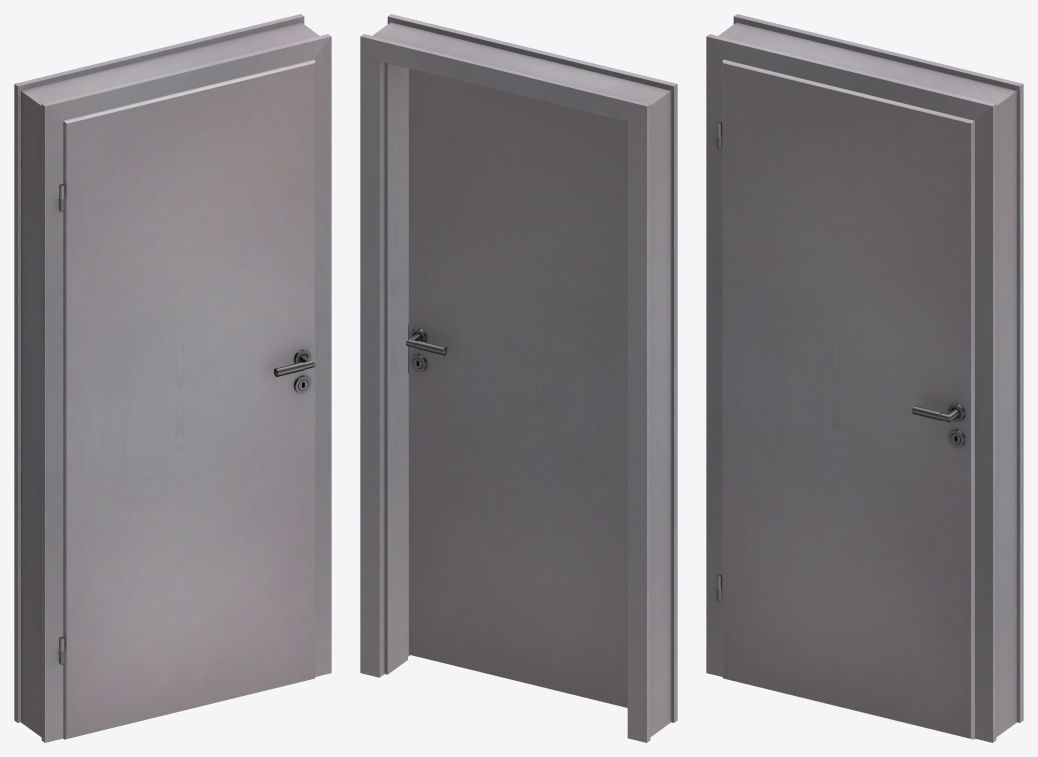
The model's file is door_with_frame.gltf.
The picture shows the model from 3 angles, left to right: view 1: azimuth 30°, elevation 25°; view 2: azimuth 150°, elevation 25°; view 3: azimuth 330°, elevation 25°; orthographic projection.
Visible parts, largest first — view 1: Plane.001, Plane.002; view 2: Plane.001, Plane.002; view 3: Plane.001, Plane.002.
Boxes of the visible parts, <box> form: Plane.001: <box>59,59,315,739</box>; Plane.002: <box>14,14,331,742</box>; Plane.001: <box>408,68,627,707</box>; Plane.002: <box>360,14,677,742</box>; Plane.001: <box>716,59,974,739</box>; Plane.002: <box>706,14,1023,742</box>.
Size of the model in its own units: 97 by 206 by 26.06.
2 materials, 2 textured.
